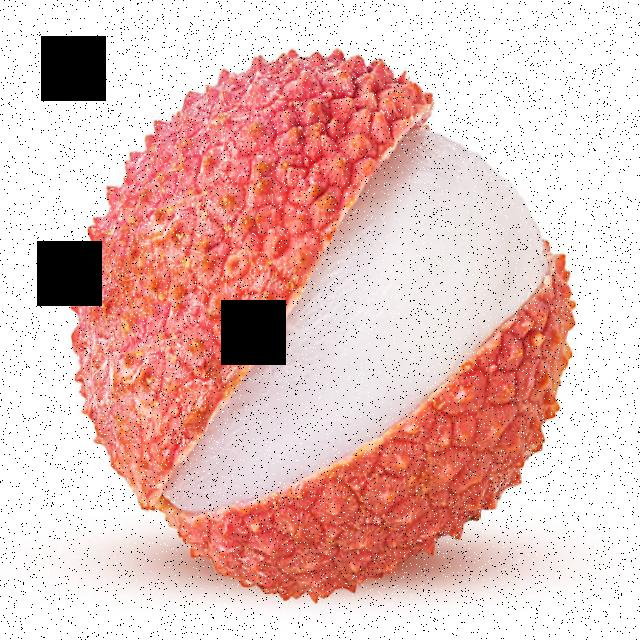lychee: (53, 45, 601, 607)
